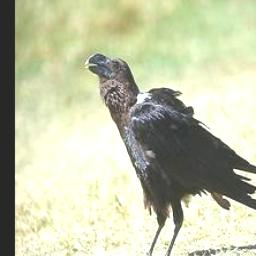Crow: (84, 51, 256, 256)
